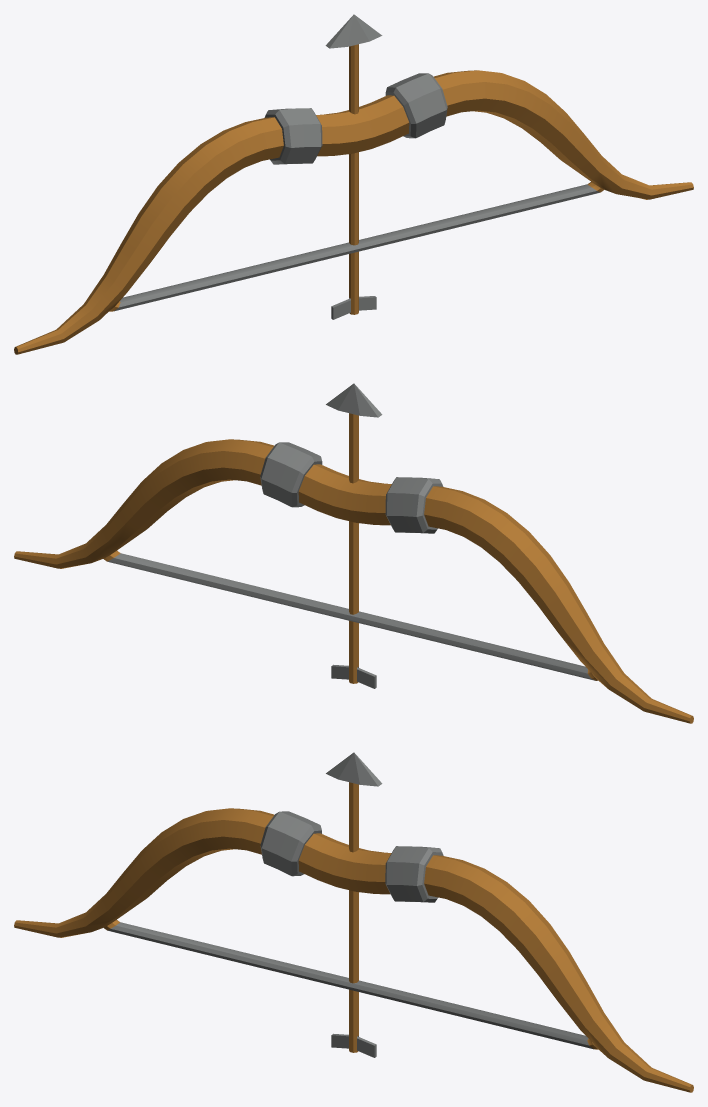
Rendered from okyayLevel3.fbx.
3 views of the same model, one above another, from view 1: azimuth 30°, elevation 25°; view 2: azimuth 150°, elevation 25°; view 3: azimuth 330°, elevation 25° (orthographic).
Visible parts, largest first — view 1: YayLevel3, okLevel3; view 2: YayLevel3, okLevel3; view 3: YayLevel3, okLevel3.
Boxes of the visible parts, x1=… form: YayLevel3: x1=14, y1=70, x2=693, y2=354; okLevel3: x1=325, y1=14, x2=382, y2=319; YayLevel3: x1=14, y1=439, x2=693, y2=723; okLevel3: x1=326, y1=383, x2=382, y2=688; YayLevel3: x1=14, y1=808, x2=693, y2=1092; okLevel3: x1=326, y1=752, x2=382, y2=1057.
Bounding box in the file's own units: 226 × 95.94 × 17.39.
